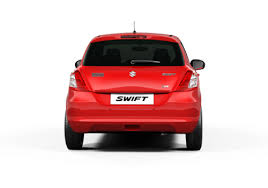Swift: (62, 26, 205, 154)
